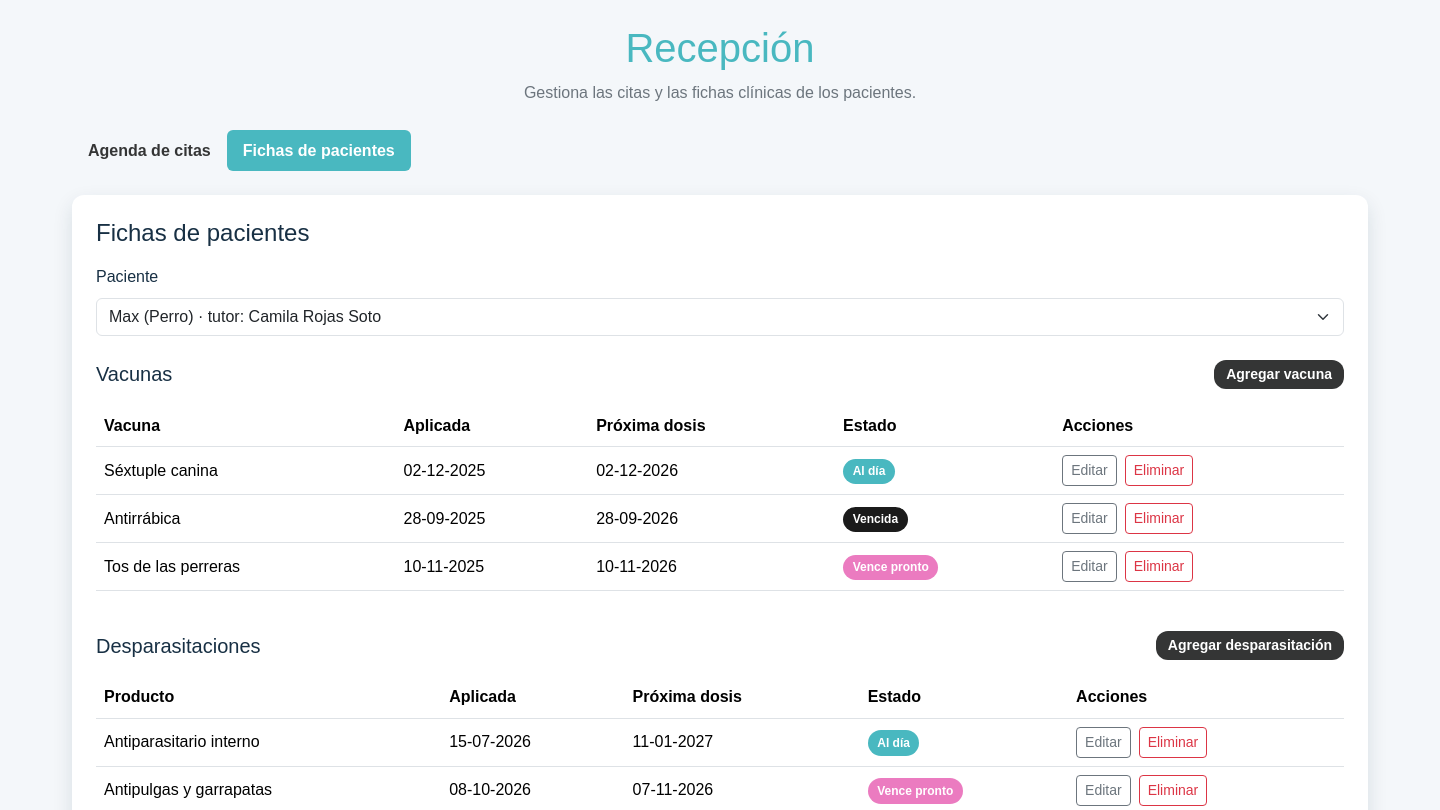
FichasPacientes › cambia la ficha mostrada al elegir otro paciente
Select "Luna (Gato) · tutor: Camila Rojas Soto" in the dropdown labelled "Paciente". click: (720, 317)
box: [96, 298, 1344, 336]
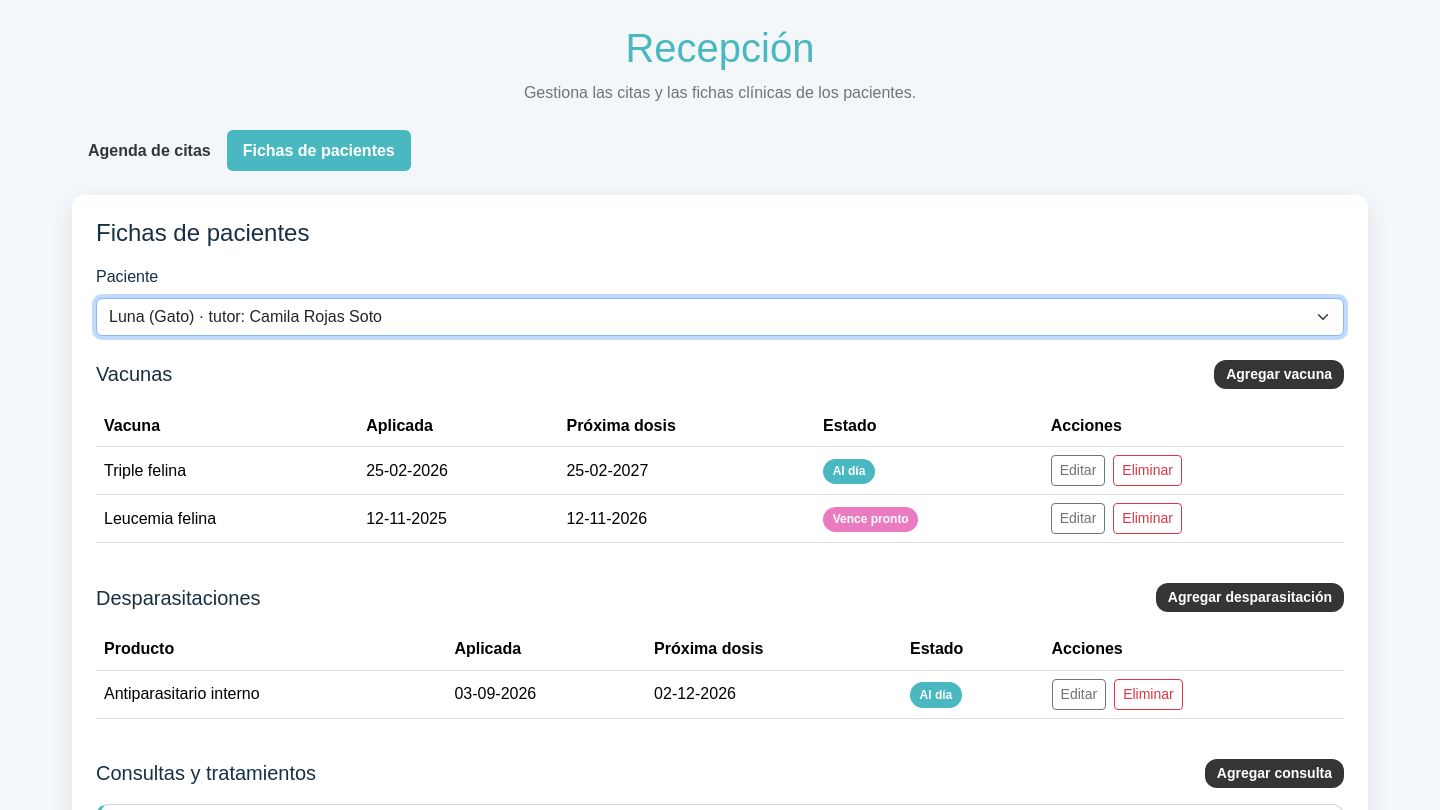
Expected: the text "Triple felina" is shown, [96, 447, 358, 495]
Expected: the text "Séxtuple canina" is gone
